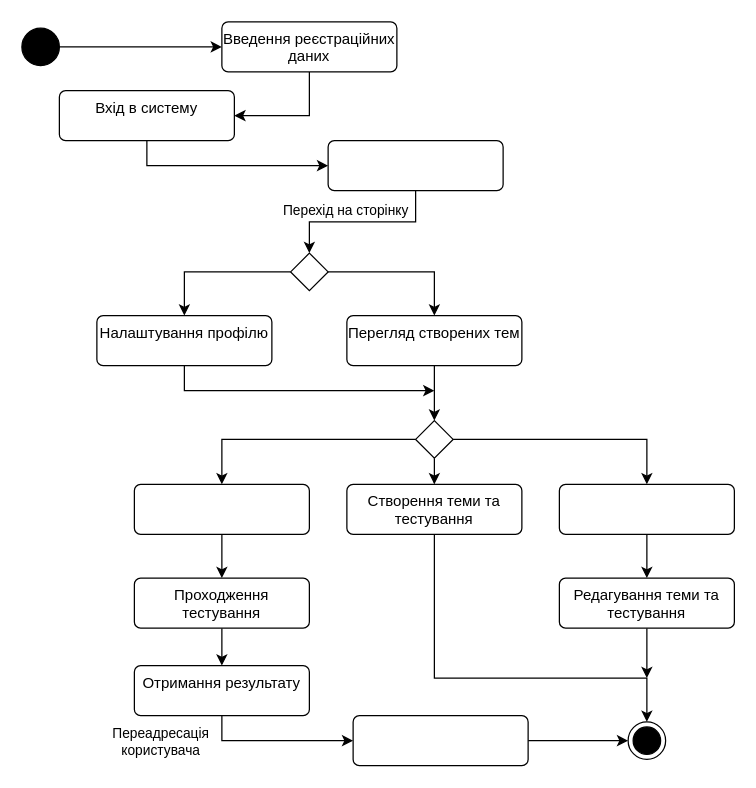
Image size: 756x788. Some labels were removed from this diagram. The centre of each missing label's shape, as x and y in pixels:
Переадресація на сторінку профілю: the point at 415,165
Перегляд створених користувачем тем: the point at 646,508
Перегляд сторінки профілю: the point at 440,740
Перегляд інформації теми: the point at 221,508
